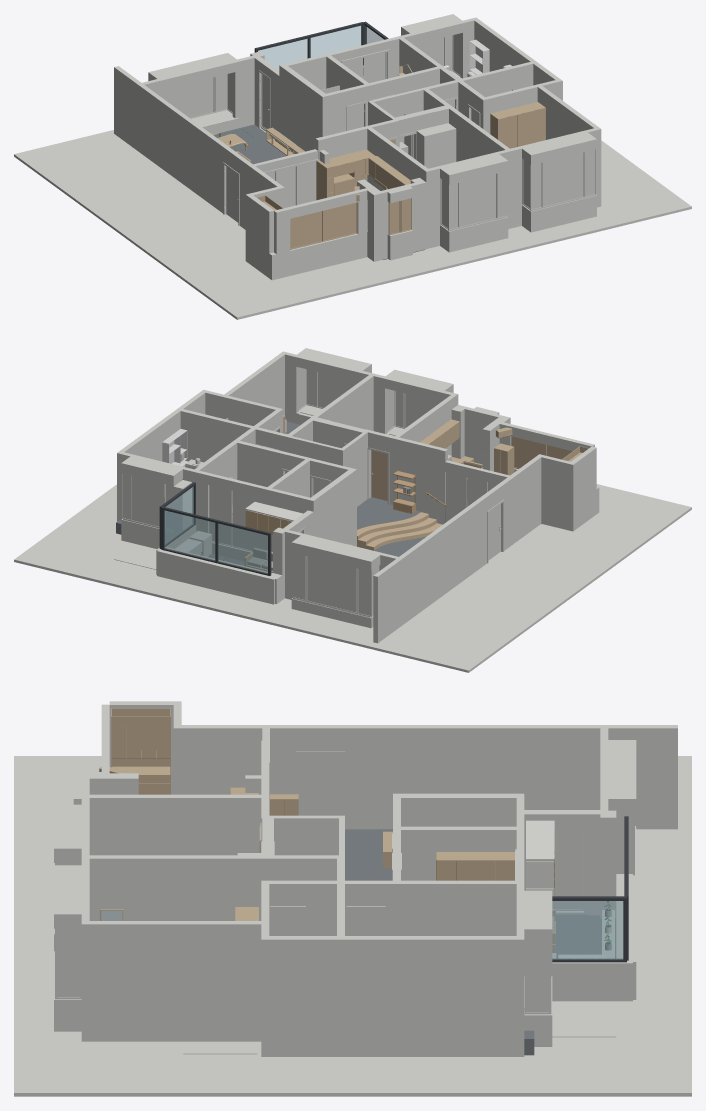
File: interaction_proxy.glb
3 views of the same model, one above another, from view 1: azimuth 30°, elevation 25°; view 2: azimuth 150°, elevation 25°; view 3: azimuth 270°, elevation 25° (orthographic). The views are drawn at different scales.
Parts seen in each view (by area): view 1: SITE_GROUND.001, VIEW_WALL_W_wall_md_0006.001, VIEW_WALL_LIVING_FIX_GUEST_BATH_FULL_WALL.001, VIEW_WALL_W_wall_md_0042.001, VIEW_WALL_W_wall_md_0035.001, V4_W-MB-S_FRONT_GLASS_1.001, VIEW_WALL_W_wall_md_0034.001, V4_W-SMB-S_FRONT_GLASS_1.001, VIEW_WALL_W_wall_md_0007.001, VIEW_WALL_W_wall_md_0021.001, VIEW_WALL_W_wall_md_0030.001, VIEW_WALL_W_wall_md_0060.001 (+46 smaller); view 2: SITE_GROUND.001, VIEW_WALL_W_wall_md_0006.001, VIEW_WALL_W_wall_md_0062.001, VIEW_WALL_W_wall_md_0005.001, VIEW_WALL_W_wall_md_0044.001, VIEW_WALL_W_wall_md_0043.001, VIEW_WALL_LIVING_FIX_GUEST_BATH_FULL_WALL.001, LIVING_FIX_BAY_FRONT_GLASS_1.001, VIEW_WALL_W_wall_md_0049.001, VIEW_WALL_W_wall_md_0055.001, NORTH_BALCONY_GLASS_NORTH_B.001, VIEW_WALL_W_wall_md_0007.001 (+55 smaller); view 3: SITE_GROUND.001, VIEW_WALL_W_wall_md_0030.001, VIEW_WALL_W_wall_md_0033.001, VIEW_WALL_W_wall_md_0006.001, VIEW_WALL_W_wall_md_0021.001, VIEW_WALL_W_wall_md_0015.001, VIEW_WALL_W_wall_md_0032.001, VIEW_WALL_W_wall_md_0005.001, VIEW_WALL_W_wall_md_0025.001, VIEW_WALL_W_wall_md_0007.001, NORTH_BALCONY_GLASS_EAST.001, FLOOR_LOWER.001 (+39 smaller).
Boxes of the visible parts, x1,y1,x2,y2 form: SITE_GROUND.001: (14,128,691,319); VIEW_WALL_W_wall_md_0006.001: (139,85,227,212); VIEW_WALL_LIVING_FIX_GUEST_BATH_FULL_WALL.001: (282,66,325,153); VIEW_WALL_W_wall_md_0042.001: (276,232,367,278); VIEW_WALL_W_wall_md_0035.001: (533,139,594,231); V4_W-MB-S_FRONT_GLASS_1.001: (543,152,583,206); VIEW_WALL_W_wall_md_0034.001: (451,161,505,251); V4_W-SMB-S_FRONT_GLASS_1.001: (460,174,496,226); VIEW_WALL_W_wall_md_0007.001: (114,66,141,150); VIEW_WALL_W_wall_md_0021.001: (449,107,509,161); VIEW_WALL_W_wall_md_0030.001: (537,86,598,139); VIEW_WALL_W_wall_md_0060.001: (232,55,254,128); SITE_GROUND.001: (14,484,691,672); VIEW_WALL_W_wall_md_0006.001: (399,495,487,624); VIEW_WALL_W_wall_md_0062.001: (157,547,277,604); VIEW_WALL_W_wall_md_0005.001: (499,456,541,550); VIEW_WALL_W_wall_md_0044.001: (396,437,441,523); VIEW_WALL_W_wall_md_0043.001: (541,455,575,531); VIEW_WALL_LIVING_FIX_GUEST_BATH_FULL_WALL.001: (311,470,354,545); LIVING_FIX_BAY_FRONT_GLASS_1.001: (307,556,356,612); VIEW_WALL_W_wall_md_0049.001: (180,409,253,462); VIEW_WALL_W_wall_md_0055.001: (196,470,266,561); NORTH_BALCONY_GLASS_NORTH_B.001: (164,510,215,560); VIEW_WALL_W_wall_md_0007.001: (373,559,400,643); SITE_GROUND.001: (14,756,691,1096); VIEW_WALL_W_wall_md_0030.001: (89,921,261,1041); VIEW_WALL_W_wall_md_0033.001: (345,936,516,1056); VIEW_WALL_W_wall_md_0006.001: (345,725,600,829); VIEW_WALL_W_wall_md_0021.001: (89,855,261,920); VIEW_WALL_W_wall_md_0015.001: (89,794,261,855); VIEW_WALL_W_wall_md_0032.001: (261,936,336,1056); VIEW_WALL_W_wall_md_0005.001: (181,725,296,794); VIEW_WALL_W_wall_md_0025.001: (401,880,516,935); VIEW_WALL_W_wall_md_0007.001: (608,725,677,829); NORTH_BALCONY_GLASS_EAST.001: (552,901,623,959); FLOOR_LOWER.001: (345,829,616,958).
Size of the model in its own units: 20 by 3.37 by 17.
